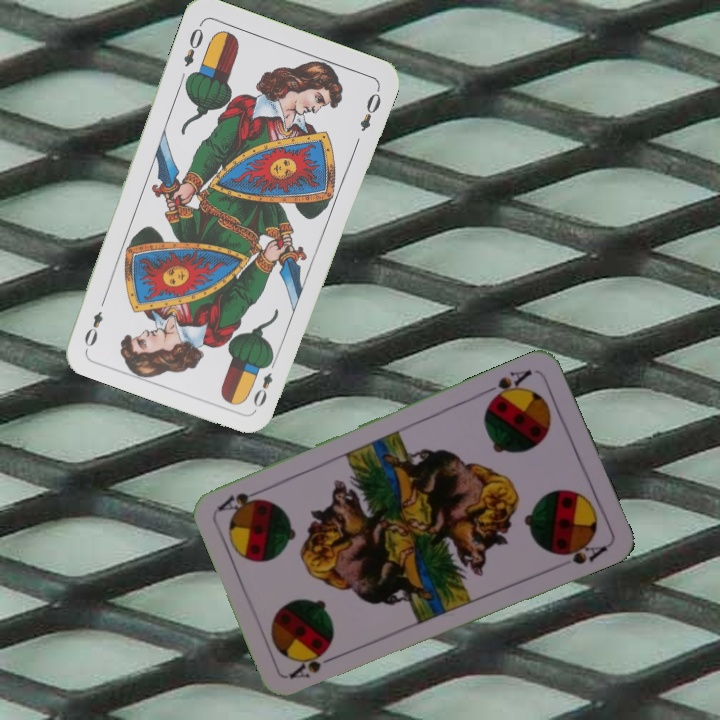EO: (249, 354, 279, 410), (179, 19, 206, 70)
SA: (481, 365, 535, 405), (285, 645, 342, 682)
